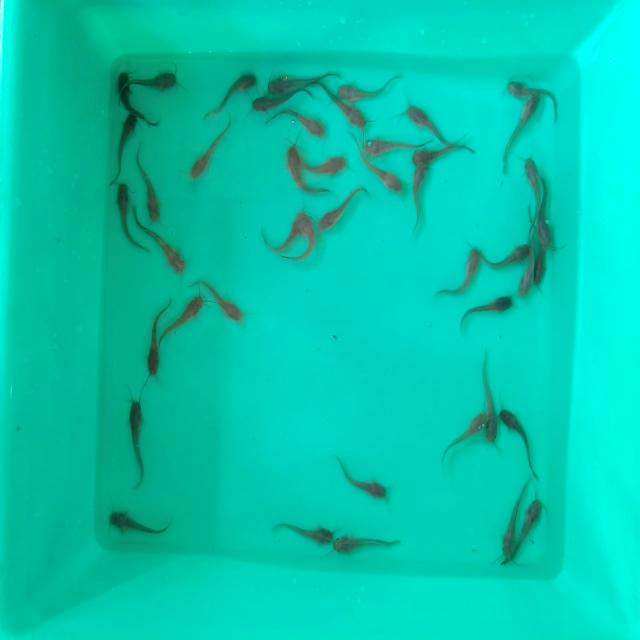lele: (203, 62, 260, 116), (438, 409, 485, 465), (190, 125, 232, 182), (142, 225, 187, 275), (268, 58, 338, 90), (499, 403, 533, 468), (318, 191, 370, 233), (337, 71, 405, 103), (106, 509, 181, 538), (260, 209, 306, 256), (208, 271, 246, 327), (439, 244, 480, 295), (353, 158, 408, 196), (333, 534, 402, 564), (340, 462, 389, 504), (274, 519, 334, 552), (504, 98, 542, 148), (402, 103, 458, 136), (496, 72, 567, 98), (164, 292, 204, 338), (481, 352, 499, 451), (110, 109, 136, 177), (128, 399, 148, 486), (111, 179, 135, 251), (276, 141, 309, 193), (409, 164, 435, 229), (498, 486, 521, 558), (412, 142, 473, 168), (516, 159, 540, 224), (140, 156, 163, 223), (461, 296, 514, 325), (278, 106, 326, 138), (522, 496, 548, 553), (250, 90, 308, 115), (296, 218, 320, 272), (479, 243, 526, 270), (146, 310, 163, 383), (307, 150, 348, 180), (363, 135, 413, 159), (132, 69, 180, 93), (333, 104, 373, 130), (537, 179, 552, 244), (114, 73, 138, 111), (520, 238, 534, 300), (535, 244, 549, 292)
